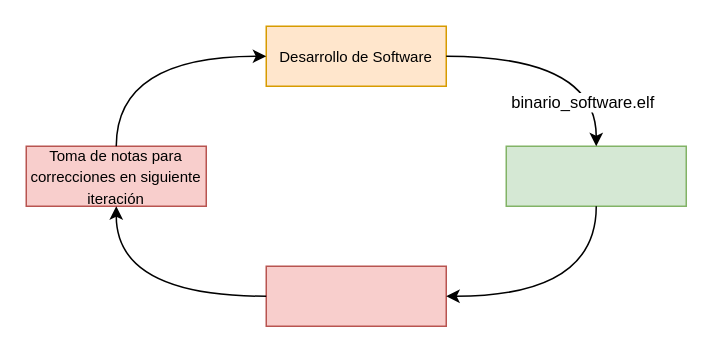
Image size: 713x354. Some labels were removed from this diagram. The shapes that lost their labels are listed below. From the top down, each one's centre as x and y in pixels, then its label:
[595,175]: Carga en emulador
[355,295]: Pruebas de funcionamiento (facilmente automatizable)
